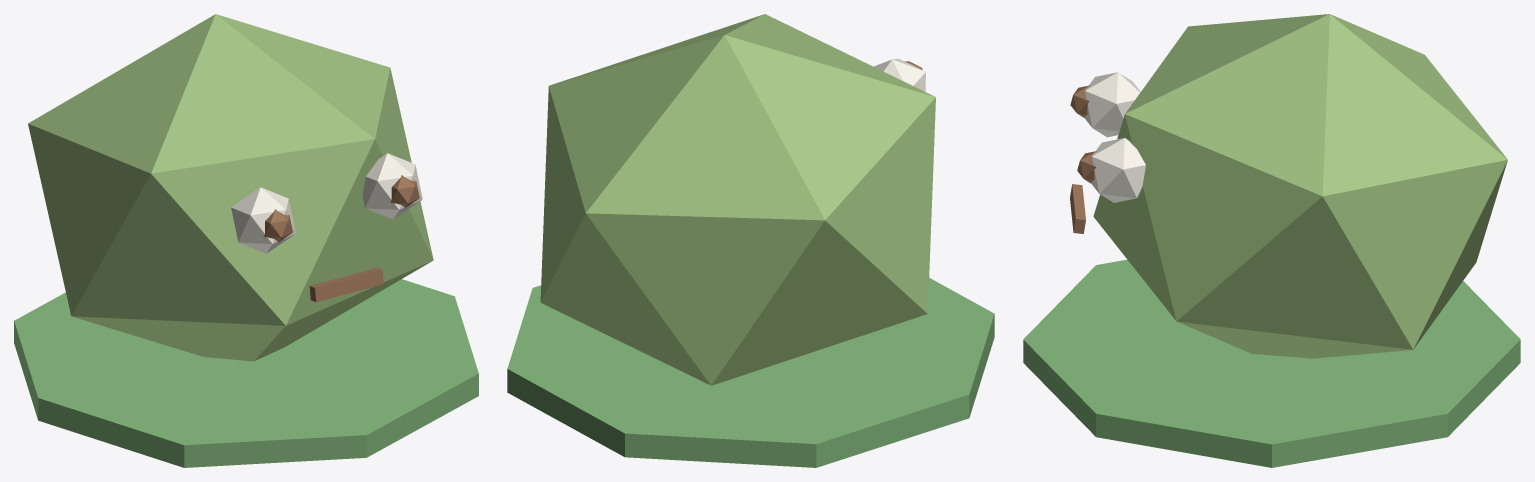
Rendered from npcpose_slime_walk_01.glb.
3 renders of one model, left to right at view 1: azimuth 30°, elevation 25°; view 2: azimuth 150°, elevation 25°; view 3: azimuth 270°, elevation 25°, orthographic. The views are drawn at different scales.
Parts seen in each view (by area): view 1: npcpose; view 2: npcpose; view 3: npcpose.
Boxes of the visible parts, x1,y1,x2,y2 form: npcpose: [14, 14, 478, 467]; npcpose: [507, 14, 994, 467]; npcpose: [1023, 14, 1520, 467].
Size of the model in its own units: 0.96 by 0.7398 by 0.96.
